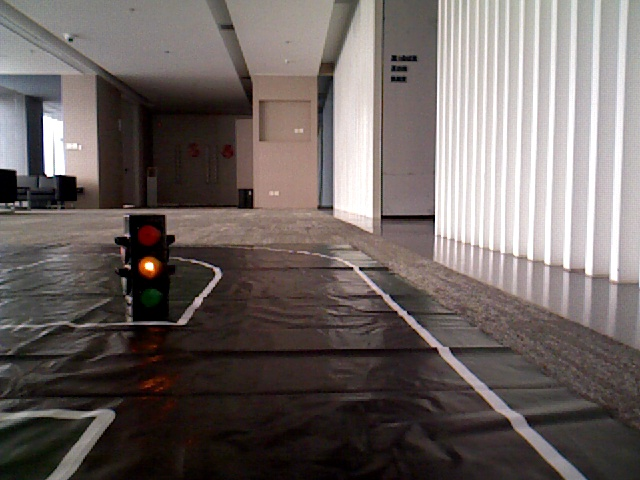yellow: (129, 220, 167, 311)
